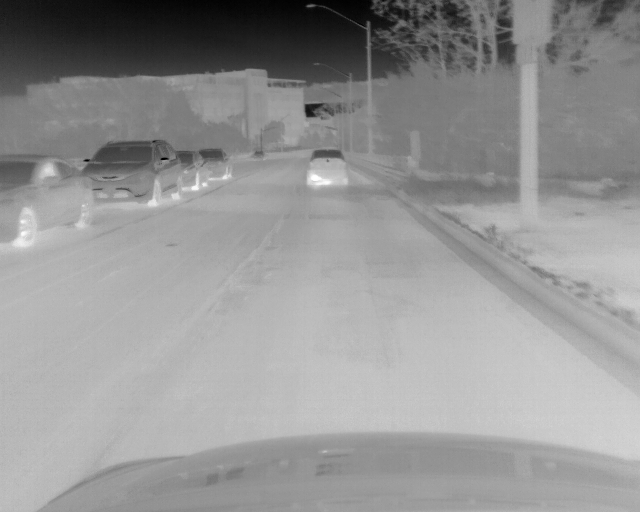car: (1, 153, 91, 251), (86, 140, 180, 203), (306, 147, 348, 186), (173, 149, 206, 190), (203, 148, 232, 181)
